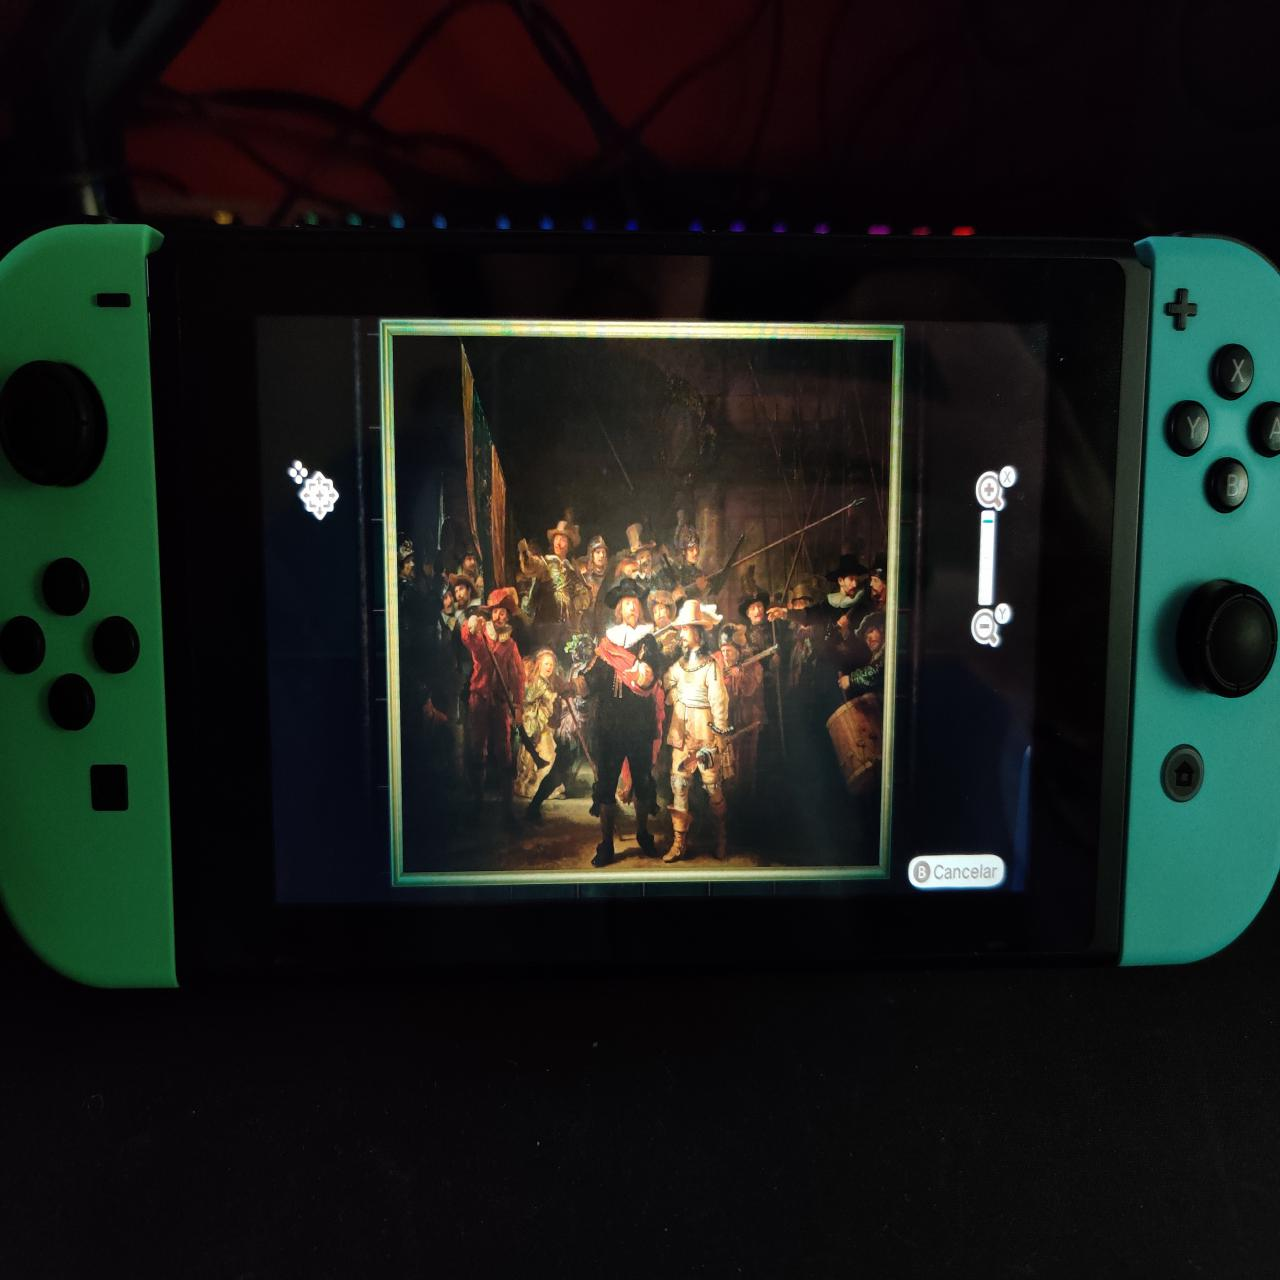NightWatch: (395, 334, 884, 867)
